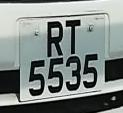3: (64, 58, 84, 94)
5: (25, 59, 48, 101), (45, 58, 66, 98), (81, 54, 101, 93)
R: (43, 18, 65, 60)
T: (63, 17, 86, 58)
